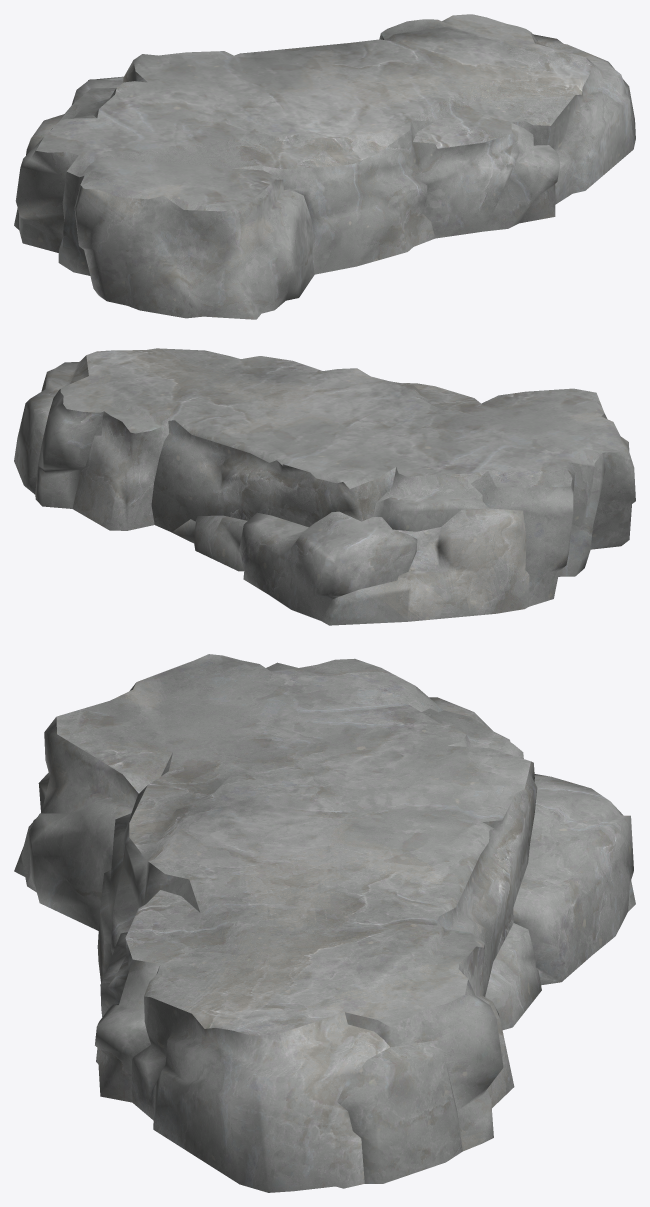
File: SM_Com_Roc_22AS.fbx
3 views of the same model, one above another, from view 1: azimuth 30°, elevation 25°; view 2: azimuth 150°, elevation 25°; view 3: azimuth 270°, elevation 25° (orthographic). The views are drawn at different scales.
Parts seen in each view (by area): view 1: SM_Com_Roc_22AS.mo; view 2: SM_Com_Roc_22AS.mo; view 3: SM_Com_Roc_22AS.mo.
Boxes of the visible parts, x1,y1,x2,y2 form: SM_Com_Roc_22AS.mo: (14, 14, 635, 319); SM_Com_Roc_22AS.mo: (14, 348, 635, 625); SM_Com_Roc_22AS.mo: (14, 654, 635, 1192).
Size of the model in its own units: 13.73 by 2.58 by 9.06.
